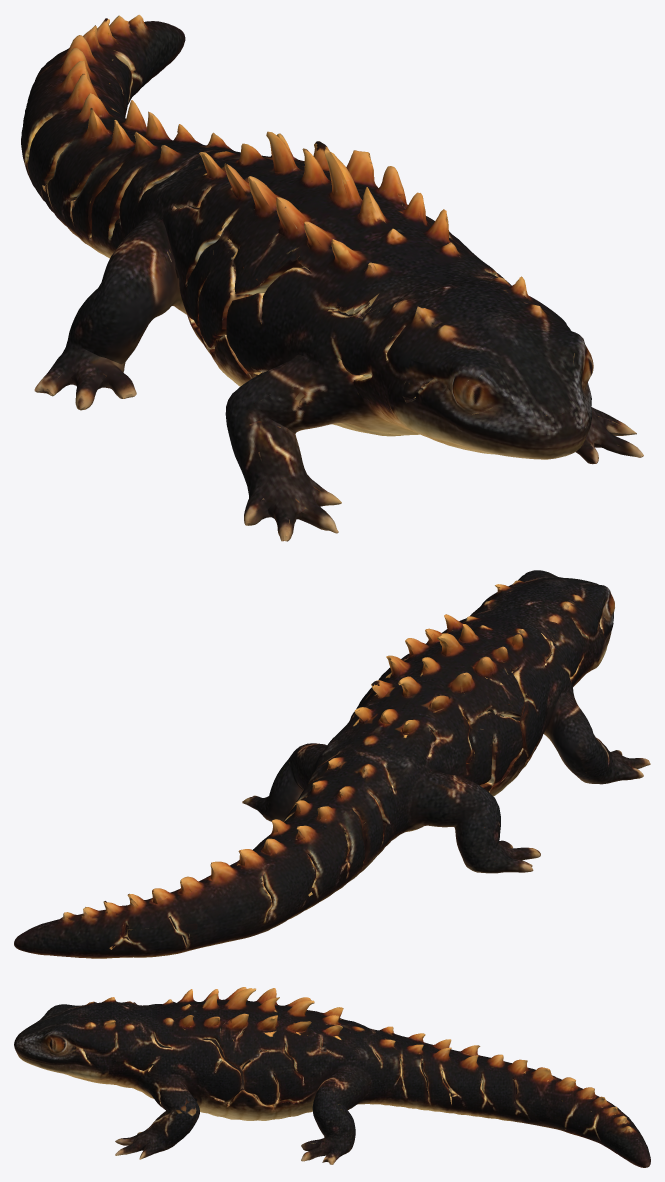
File: mosshock_b4.glb
3 views of the same model, one above another, from view 1: azimuth 30°, elevation 25°; view 2: azimuth 150°, elevation 25°; view 3: azimuth 270°, elevation 25° (orthographic). The views are drawn at different scales.
Parts seen in each view (by area): view 1: Mesh_0; view 2: Mesh_0; view 3: Mesh_0.
Part boxes in pixels (box(x1,y1,x2,y2)): Mesh_0: box(21, 14, 643, 541); Mesh_0: box(14, 570, 650, 958); Mesh_0: box(14, 987, 650, 1167).
Bounding box in the file's own units: 0.7989 × 0.4109 × 1.9.
Materials: 1 (1 with a texture image).
